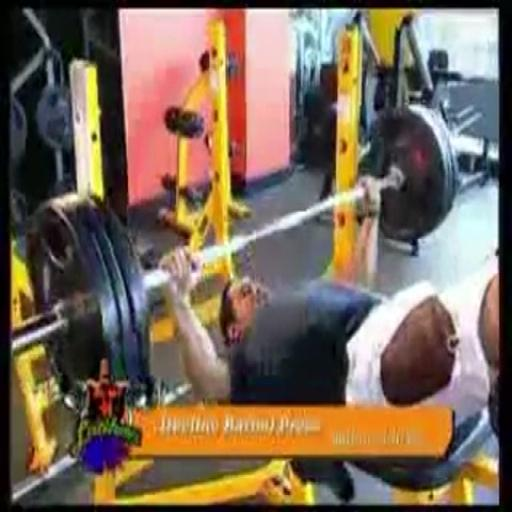exercise: (157, 242, 501, 429)
